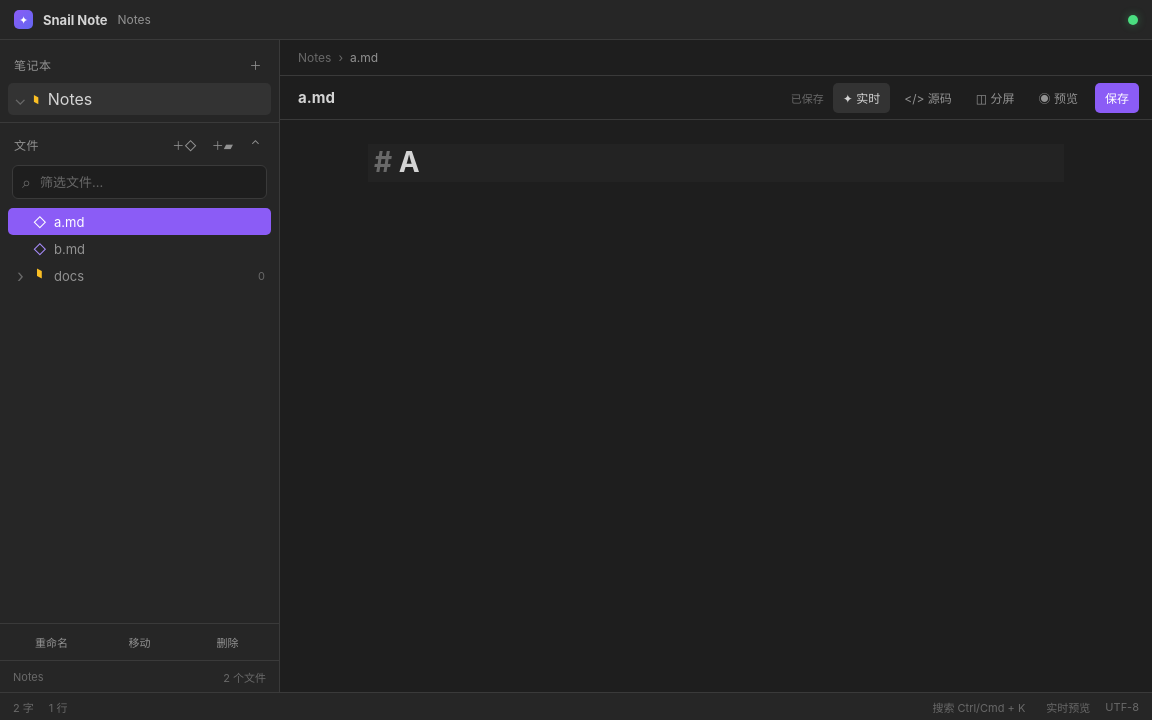
App workspace navigation › switches editor content when clicking another file
Expected: the text "已保存" is shown, [791,90,824,106]
What coordinates should you click on to do the following:
click the button "◇ b.md"
I would click on:
 (70, 248)
Its box is [8,235,271,262].
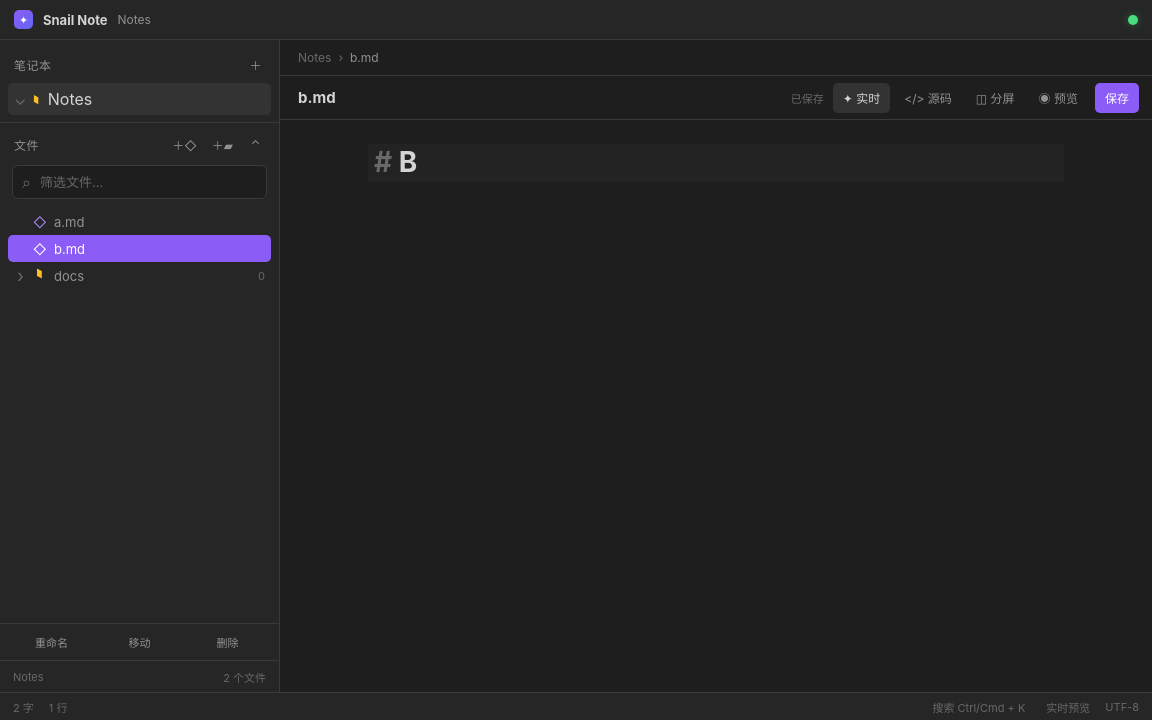
Result: the text with class "document-title" reads "b.md" at [298,88,336,107]
Result: the text box labelled "# B" is shown at [368,144,1064,182]
